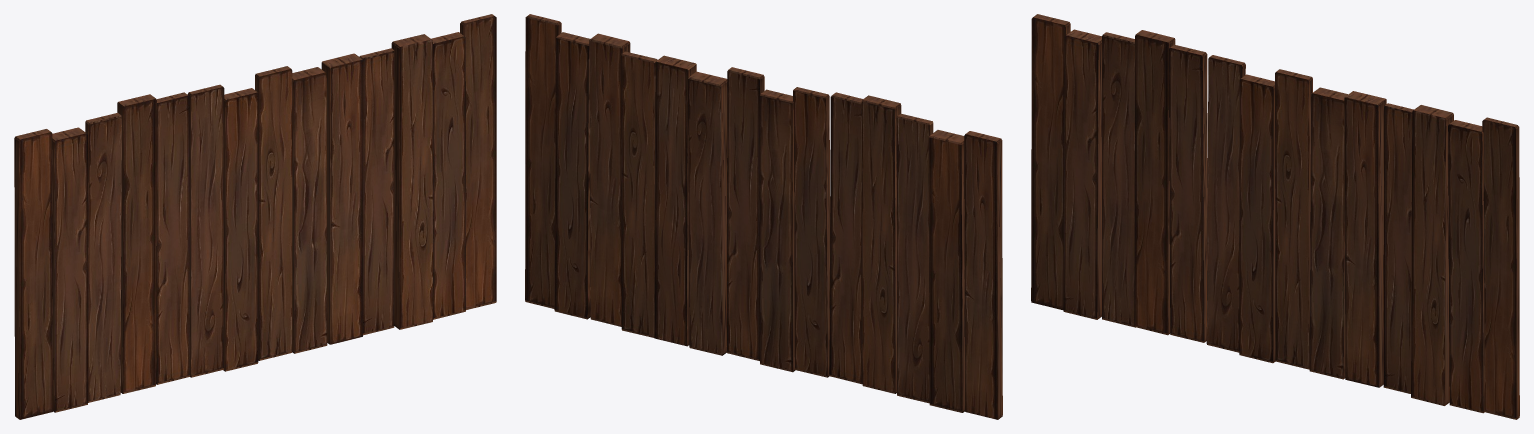
File: GoblinFortress_Wall.fbx
3 renders of one model, left to right at view 1: azimuth 30°, elevation 25°; view 2: azimuth 150°, elevation 25°; view 3: azimuth 330°, elevation 25°, orthographic. The views are drawn at different scales.
Parts seen in each view (by area): view 1: Cube.011, Cube, Cube.003, Cube.009, Cube.007, Cube.006, Cube.008, Cube.001, Cube.005, Cube.004, Cube.002, Cube.012 (+2 smaller); view 2: Cube, Cube.008, Cube.003, Cube.005, Cube.001, Cube.012, Cube.009, Cube.006, Cube.007, Cube.010, Cube.004, Cube.011 (+2 smaller); view 3: Cube.009, Cube.011, Cube.004, Cube.001, Cube.013, Cube.003, Cube.007, Cube.006, Cube.012, Cube.008, Cube, Cube.005 (+2 smaller).
Boxes of the visible parts, left/top/right/bottom form: Cube.011: left=391, top=34, right=432, bottom=329; Cube: left=14, top=129, right=52, bottom=419; Cube.003: left=117, top=94, right=156, bottom=393; Cube.009: left=321, top=53, right=363, bottom=344; Cube.007: left=255, top=66, right=292, bottom=360; Cube.006: left=223, top=88, right=258, bottom=371; Cube.008: left=292, top=67, right=327, bottom=353; Cube.001: left=52, top=127, right=87, bottom=412; Cube.005: left=187, top=84, right=224, bottom=377; Cube.004: left=156, top=92, right=190, bottom=384; Cube.002: left=85, top=113, right=121, bottom=402; Cube.012: left=431, top=32, right=465, bottom=319; Cube: left=964, top=131, right=1002, bottom=419; Cube.008: left=688, top=71, right=727, bottom=355; Cube.003: left=861, top=95, right=901, bottom=393; Cube.005: left=793, top=87, right=830, bottom=377; Cube.001: left=928, top=130, right=964, bottom=412; Cube.012: left=554, top=32, right=590, bottom=319; Cube.009: left=654, top=55, right=696, bottom=346; Cube.006: left=759, top=89, right=795, bottom=372; Cube.007: left=726, top=67, right=764, bottom=360; Cube.010: left=621, top=51, right=657, bottom=337; Cube.004: left=829, top=92, right=862, bottom=384; Cube.011: left=589, top=33, right=630, bottom=326; Cube.009: left=1344, top=91, right=1386, bottom=387; Cube.011: left=1411, top=105, right=1453, bottom=405; Cube.004: left=1169, top=44, right=1207, bottom=342; Cube.001: left=1063, top=29, right=1101, bottom=319; Cube.013: left=1482, top=117, right=1519, bottom=419; Cube.003: left=1134, top=30, right=1175, bottom=335; Cube.007: left=1275, top=69, right=1312, bottom=369; Cube.006: left=1239, top=74, right=1275, bottom=363; Cube.012: left=1448, top=120, right=1484, bottom=413; Cube.008: left=1309, top=87, right=1347, bottom=379; Cube: left=1031, top=14, right=1070, bottom=309; Cube.005: left=1206, top=55, right=1245, bottom=352.
Size of the model in its own units: 533 by 310 by 24.09.
